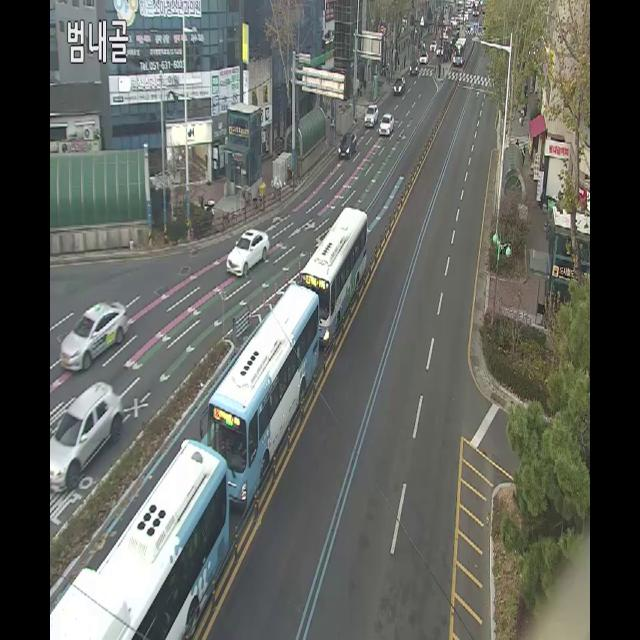car: (52, 436, 232, 640), (204, 284, 320, 514), (299, 199, 370, 341)
motorcycle: (50, 380, 125, 494), (59, 298, 130, 374), (226, 228, 272, 278), (336, 126, 359, 162), (376, 108, 396, 140)
